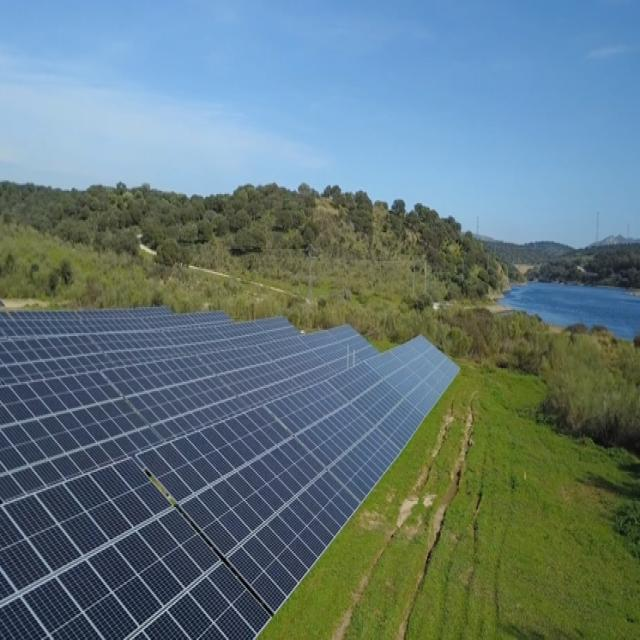clean-solar-panel: (1, 307, 458, 639)
